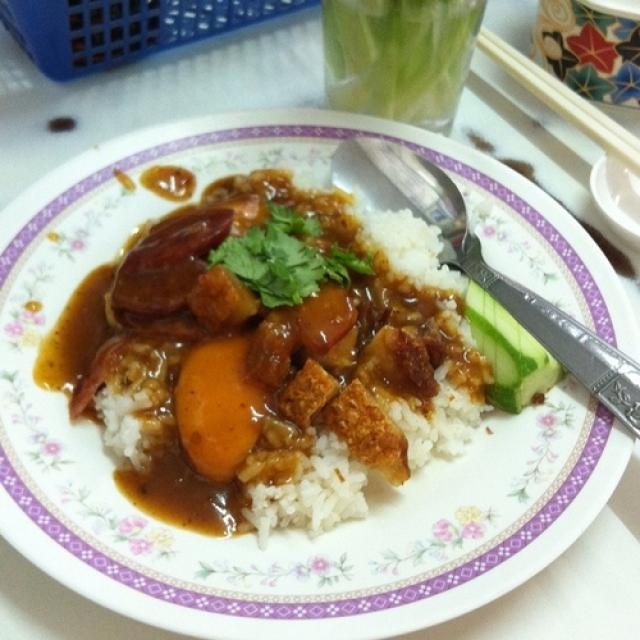猪肉菜式: (5, 116, 627, 634)
